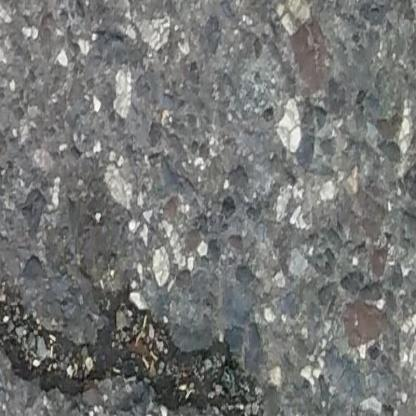Cracks: (0, 265, 276, 416)
